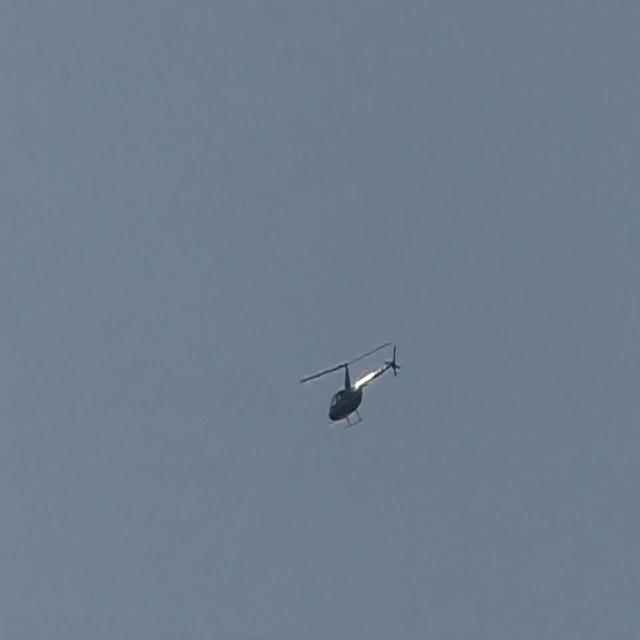CIV_HELO: (327, 343, 402, 430)
